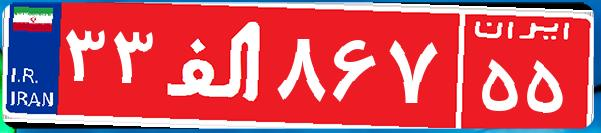3: (57, 26, 110, 107), (110, 28, 158, 105)
5: (475, 38, 525, 113), (525, 38, 570, 115)
6: (330, 28, 385, 110)
7: (385, 28, 445, 110)
8: (273, 28, 330, 110)
الف: (158, 15, 273, 115)
